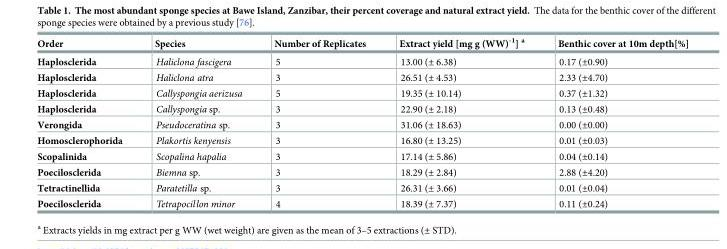table: (36, 36, 688, 209)
table column: (381, 36, 540, 209), (540, 36, 688, 209), (257, 36, 381, 209), (137, 36, 257, 209), (36, 36, 137, 209)
table column header: (36, 36, 688, 51)
table row: (36, 51, 688, 69), (36, 69, 688, 85), (36, 100, 688, 116), (36, 116, 688, 132), (36, 132, 688, 148), (36, 163, 688, 179), (36, 179, 688, 195), (36, 36, 688, 51), (36, 85, 688, 100), (36, 148, 688, 163), (36, 195, 688, 209)
